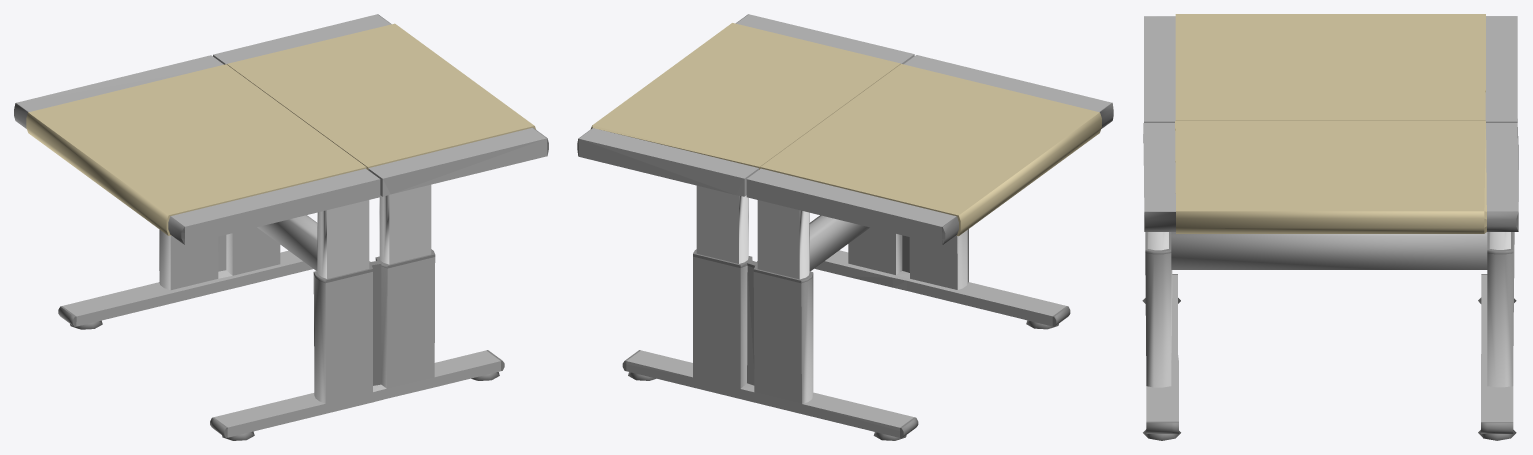
File: Print_board.dae
The picture shows the model from 3 angles, left to right: view 1: azimuth 30°, elevation 25°; view 2: azimuth 150°, elevation 25°; view 3: azimuth 270°, elevation 25°; orthographic projection. The views are drawn at different scales.
Parts seen in each view (by area): view 1: Print_board; view 2: Print_board; view 3: Print_board.
Boxes of the visible parts, box(x1,y1,x2,y2) form: Print_board: box(14, 14, 548, 440); Print_board: box(577, 14, 1113, 440); Print_board: box(1142, 14, 1518, 440).
Bounding box in the file's own units: 0.7995 × 0.6375 × 0.4728.
